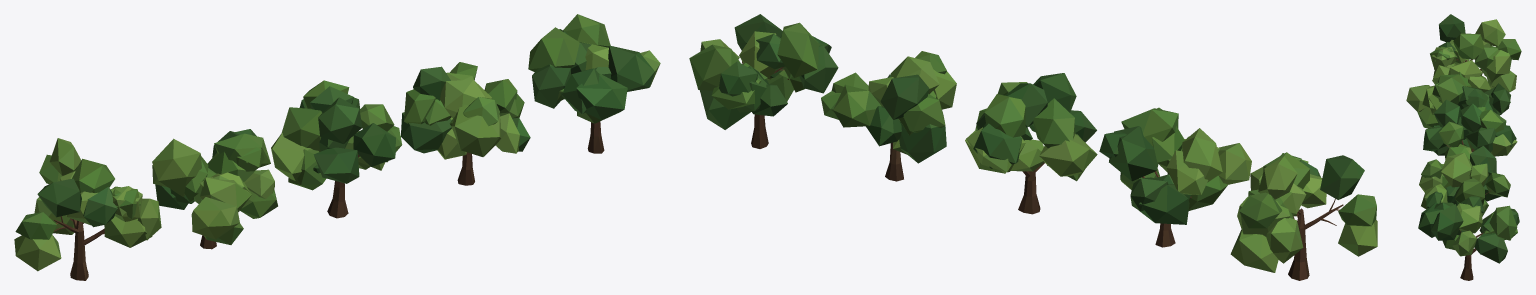
File: ranvora_v2_broadleaf.glb
The picture shows the model from 3 angles, left to right: view 1: azimuth 30°, elevation 25°; view 2: azimuth 150°, elevation 25°; view 3: azimuth 270°, elevation 25°; orthographic projection. The views are drawn at different scales.
Parts seen in each view (by area): view 1: broadleaf_A_mesh, broadleaf_C_mesh, broadleaf_D_mesh, broadleaf_B_mesh, broadleaf_E_mesh; view 2: broadleaf_A_mesh, broadleaf_B_mesh, broadleaf_E_mesh, broadleaf_C_mesh, broadleaf_D_mesh; view 3: broadleaf_E_mesh, broadleaf_A_mesh, broadleaf_C_mesh, broadleaf_B_mesh, broadleaf_D_mesh.
Part boxes in pixels (left/top/right/bottom): broadleaf_A_mesh: left=14, top=138, right=161, bottom=280; broadleaf_C_mesh: left=271, top=80, right=402, bottom=218; broadleaf_D_mesh: left=400, top=62, right=530, bottom=185; broadleaf_B_mesh: left=152, top=129, right=277, bottom=249; broadleaf_E_mesh: left=528, top=14, right=660, bottom=153; broadleaf_A_mesh: left=1230, top=152, right=1377, bottom=280; broadleaf_B_mesh: left=1099, top=107, right=1251, bottom=247; broadleaf_E_mesh: left=689, top=14, right=838, bottom=148; broadleaf_C_mesh: left=965, top=73, right=1097, bottom=214; broadleaf_D_mesh: left=821, top=51, right=956, bottom=181; broadleaf_E_mesh: left=1418, top=178, right=1519, bottom=280; broadleaf_A_mesh: left=1430, top=14, right=1521, bottom=92; broadleaf_C_mesh: left=1423, top=99, right=1517, bottom=160; broadleaf_B_mesh: left=1406, top=60, right=1510, bottom=128; broadleaf_D_mesh: left=1419, top=146, right=1510, bottom=216.
Bounding box in the file's own units: 34.88 × 6.53 × 7.85.
